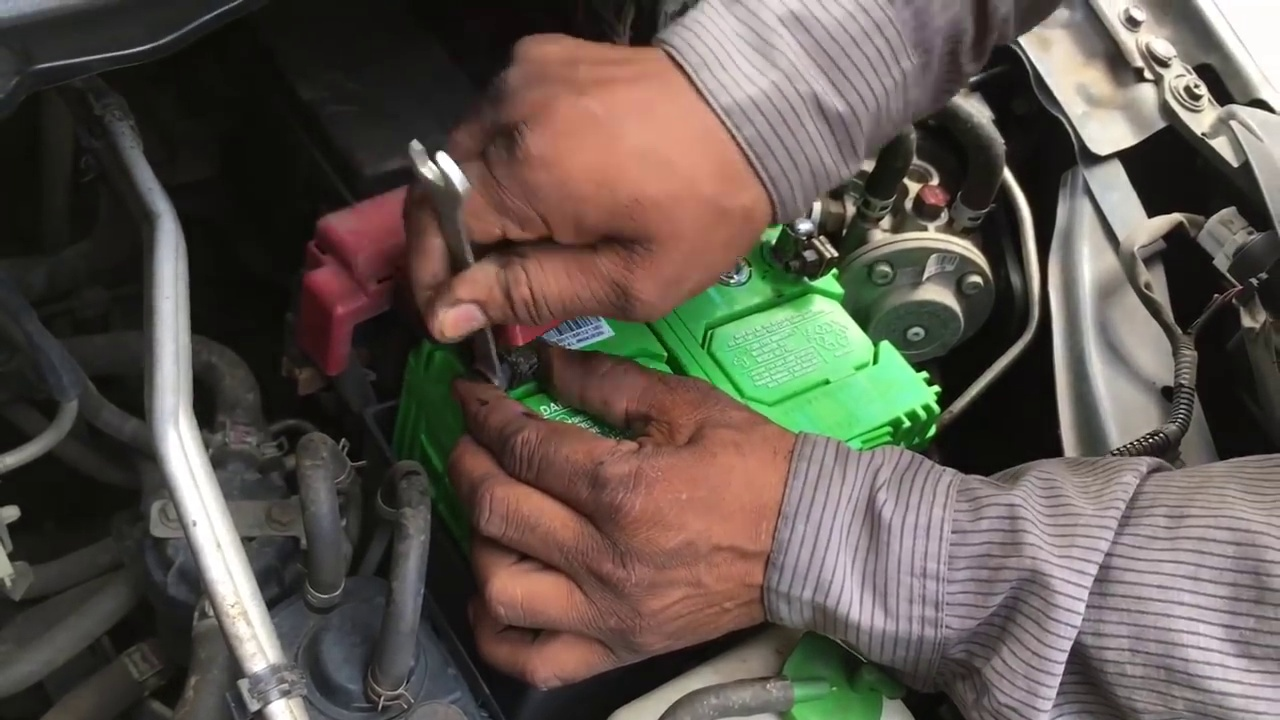battery: (407, 204, 951, 476)
neg_touched: (593, 176, 870, 341)
pos_touched: (313, 189, 591, 460)
